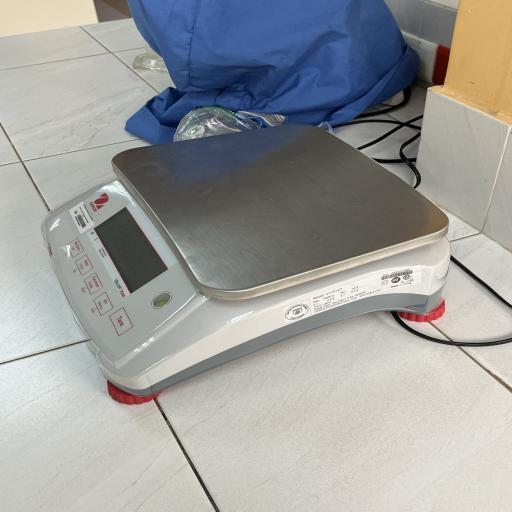Balanza_Granataria_Ohaus: (31, 118, 474, 410)
